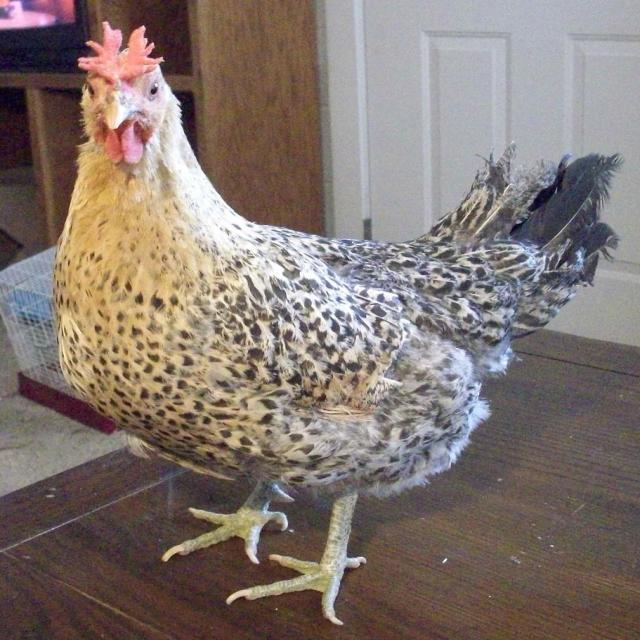Chicken: (57, 27, 576, 640)
